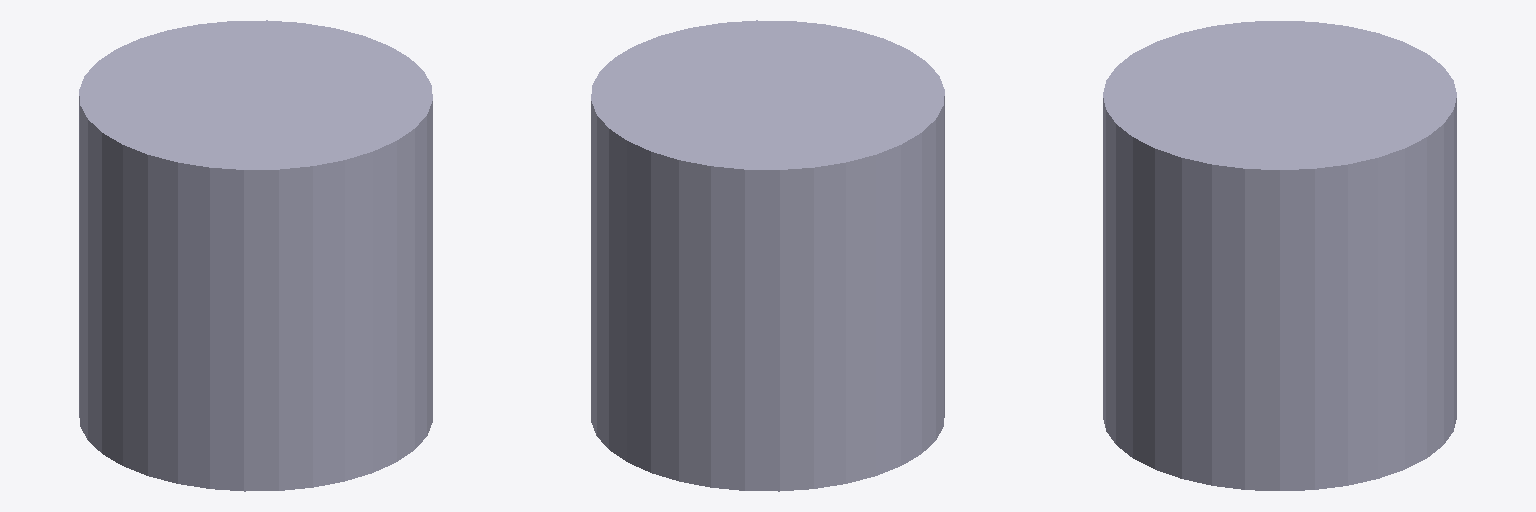
URDF robot description (flexpicker):
<?xml version="1.0" ?>
<robot name="flexpicker" xmlns:xacro="http://www.ros.org/wiki/xacro">
 <material name="gripperMaterial">
        <!-- Dark red like saywer robot -->
        <color rgba="0.6 0.18 0.18 1.0"/>
    </material>
    <material name="schunkGripperMaterial">
        <color rgba="0.55 0 0.0 1.0"/>
    </material>
    <material name="schunkGripperFingerMaterial">
        <!-- Dark red like saywer robot -->
        <color rgba="0.83 0.68 0.21 1.0" />
    </material>
    <material name="schunkGripperMountMaterial">
        <!-- Dark red like saywer robot -->
        <color rgba="0.74 0.74 0.82 1.0"/>
    </material>
    <material name="fingerFoamMaterial">
        <!-- Dark grey -->
        <color rgba="0.2 0.2 0.2 1.0"/>
    </material>

 <link name="flexpicker_link_0">
        <inertial>
            <origin rpy="0 3.141592653589 0" xyz="-0.1 0 0.07"/>
            <!--Increase mass from 5 Kg original to provide a stable base to carry the
                arm.-->
            <inertia ixx="0.05" ixy="0" ixz="0" iyy="0.06" iyz="0" izz="0.03"/>
            <mass value="0"/>
        </inertial>
 </link>
 <joint name='x_axis' type='prismatic'>
  <parent link="flexpicker_link_0"/>
  <child link="x_link"/>
  <axis xyz="1 0 0"/>
  <limit lower="-10" upper="10" effort="1000" velocity="10" />
  <dynamics damping="0.0" friction="0.0"/>
 </joint>
 <link name='x_link'>
      <inertial>
        <mass value="3"/>
        <inertia ixx="1"  ixy="0"  ixz="0" iyy="1" iyz="0" izz="1" />
      </inertial>
 </link>
 <joint name='y_axis' type='prismatic'>
  <parent link="x_link"/>
  <child link="y_link"/>
  <axis xyz="0 1 0"/>
  <limit lower="-10" upper="10" effort="1000" velocity="10" />
  <dynamics damping="0.0" friction="0.0"/>
 </joint>
  <link name='y_link'>
      <inertial>
        <mass value="3"/>
        <inertia ixx="1"  ixy="0"  ixz="0" iyy="1" iyz="0" izz="1" />
      </inertial>
 </link>
  <joint name='z_axis' type='prismatic'>
  <parent link="y_link"/>
  <child link="z_link"/>
  <axis xyz="0 0 1"/>
  <limit lower="-10" upper="10" effort="1000" velocity="10" />
  <dynamics damping="0.0" friction="0.0"/>
 </joint>
  <link name='z_link'>
      <inertial>
        <mass value="3"/>
        <inertia ixx="1"  ixy="0"  ixz="0" iyy="1" iyz="0" izz="1" />
      </inertial>
 </link>
 <joint name='base_cyl_joint' type="revolute">
  <parent link="z_link"/>
  <child link="base_cyl_link"/>
  <axis xyz="0 0 1"/>
  <limit lower="-100" upper="100" effort="300" velocity="1200" />
  <dynamics damping="0.0" friction="0.0"/>
  <origin xyz="0 0 0.07"/>
 </joint>
 <link name="base_cyl_link">
        <inertial>
            <origin xyz="0 0 0" rpy="0 0 0"/>
            <inertia ixx="3.578111313725209e-08" ixy="1.9645539431978182e-25" ixz="-3.148195961317329e-26" iyy="3.578111326283281e-08" iyz="2.2037820490974163e-24" izz="3.0665489403698024e-08"/>
            <mass value="0.02"/>
        </inertial>
        <visual name='cyl_visual'>
            <origin xyz="0 0 0" rpy="0 0 0" />
            <geometry>
                <cylinder radius="0.025" length="0.05"/>
            </geometry>
            <material name="schunkGripperMountMaterial"/>
        </visual>
        <collision>
            <origin xyz="0 0 0" rpy="0 0 0" />
            <geometry>
                <cylinder radius="0.025" length="0.05"/>
            </geometry>
        </collision>
 </link>
 <joint name='cylinder_to_gripper' type='fixed'>
        <parent link="base_cyl_link"/>
        <child link="gripper_base"/>
        <origin xyz="0 0 0.025"/>
 </joint>
 <joint name='coupler_to_realsense_rgb' type='fixed'>
 		<parent link="gripper_base"/>
        <child link="realsense_rgb"/>
<!--        <origin xyz="-0.110572 0.0325 -0.036494" rpy="0 0 0"/>-->
        <origin xyz="-0.109951 0.027587 0.0519427" rpy="0 0 0" />
 </joint>
 <link name="realsense_rgb">
         <inertial>
            <origin rpy="0 0 0" xyz="0 0 0"/>
            <inertia ixx="0.0000000001" ixy="0" ixz="0" iyy="0.0000000001" iyz="0" izz="0.0000000001"/>
            <mass value="0.0001"/>
        </inertial>
<!--        <visual name='realsense_link_visual'>-->
<!--            <origin xyz="0 0 0" rpy="0 0 0" />-->
<!--            <geometry>-->
<!--                <box size="0.002 0.002 0.002" />-->
<!--            </geometry>-->
<!--            <material name="rs">-->
<!--                <color rgba="1 0.0 0.0 1"/>-->
<!--            </material>-->
<!--        </visual>-->
 </link>
 <!-- Base of end effector -->
 <link name="gripper_base">
        <inertial>
            <origin xyz="0.0000126 0.0000128 0.0598407" rpy="0 0 0"/>
            <inertia ixx="0.00000102192" ixy="0.00000000008" ixz="0.00000000015" iyy="0.00000086436" iyz="0.00000000019" izz="0.00000070256"/>
            <mass value="0.800"/>
        </inertial>
        <visual>
            <origin rpy="0 0 1.57079632679" xyz="0 0 0"/>
            <geometry>
                <mesh filename="package://meshes/meshes_EGH_gripper/gripper_body_EGH.obj"/>
            </geometry>
            <material name="schunkGripperMaterial"/>
        </visual>
        <collision>
            <origin rpy="0 0 1.57079632679" xyz="0 0 0"/>
            <geometry>
                <mesh filename="package://meshes/meshes_EGH_gripper/gripper_body_EGH_vhacd.obj"/>
            </geometry>
            <material name="schunkGripperMaterial"/>
        </collision>
 </link>

    <!-- Joint to define the Tool Control Point relatively to the gripper base -->
    <joint name="tool_control_point" type="fixed">
        <origin rpy="0 3.141592653589793 0" xyz="0 0 0.197478"/>
        <parent link="gripper_base"/>
        <child link="gripper"/>
    </joint>
    <!-- Gripper Tool control point -->
    <link name="gripper">
        <inertial>
            <origin rpy="0 0 0" xyz="0 0 0"/>
            <inertia ixx="0.0000000001" ixy="0" ixz="0" iyy="0.0000000001" iyz="0" izz="0.0000000001"/>
            <mass value="0.0001"/>
        </inertial>
    </link>
<!-- Gripper finger joints -->
    <joint name="l_gripper_l_finger_joint" type="prismatic">
        <origin rpy="0 0 0" xyz="0 0 0.1082"/>
        <axis xyz="0 1 0"/>
        <parent link="gripper_base"/>
        <child link="l_gripper_l_finger"/>
        <limit effort="25.0" lower="-0.04" upper="0.04" velocity="2.0"/>
       <dynamics damping="0.7" friction="0.0"/>
    </joint>
    <joint name="l_gripper_r_finger_joint" type="prismatic">
        <origin rpy="0 0 0" xyz="0 0 0.1082"/>
        <axis xyz="0 1 0"/>
        <parent link="gripper_base"/>
        <child link="l_gripper_r_finger"/>
        <limit effort="25.0" lower="-0.04" upper="0.04" velocity="2.0"/>
        <mimic joint="l_gripper_l_finger_joint" multiplier="-1.0"/>
       <dynamics damping="0.7" friction="0.0"/>
    </joint>

    <!-- Left gripper finger -->
    <link name="l_gripper_l_finger">
        <inertial>
            <origin xyz="-0.0001337 0.0112778 0.0399032" rpy="0 0 0"/>
            <inertia ixx="0.00000002451" ixy="-0.00000000009" ixz="-0.00000000018" iyy="0.00000002462" iyz="-0.00000000037" izz="0.00000000612"/>
            <mass value="0.100"/>
        </inertial>
        <visual>
            <origin rpy="0 0 1.57079632679" xyz="0.00025 -0.03 0"/>
            <geometry>
                <mesh filename="package://meshes/meshes_EGH_gripper/finger_EGH.obj"/>
            </geometry>
            <material name="package://meshes/schunkGripperFingerMaterial"/>
        </visual>
        <collision>
            <origin rpy="0 0 1.57079632679" xyz="0.00025 -0.03 0"/>
            <geometry>
                <mesh filename="package://meshes/meshes_EGH_gripper/finger_EGH_shrinked_vhacd.obj"/>
            </geometry>
        </collision>
        <contact>
            <lateral_friction value="0.9"/>
            <spinning_friction value="0.01"/>
        </contact>
    </link>

    <!-- Right gripper finger -->
    <link name="l_gripper_r_finger">
        <inertial>
            <origin xyz="0.0001337 -0.0112778 0.0399032" rpy="0 0 0"/>
            <inertia ixx="0.00000002451" ixy="-0.00000000009" ixz="0.00000000018" iyy="0.00000002462" iyz="0.00000000037" izz="0.00000000612"/>
            <mass value="0.100"/>
        </inertial>
        <visual>
            <origin rpy="0 0 -1.57079632679" xyz="-0.00025 0.03 0"/>
            <geometry>
                <mesh filename="package://meshes/meshes_EGH_gripper/finger_EGH.obj"/>
            </geometry>
            <material name="package://meshes/schunkGripperFingerMaterial"/>
        </visual>
        <collision>
            <origin rpy="0 0 -1.57079632679" xyz="-0.00025 0.03 0"/>
            <geometry>
                <mesh filename="package://meshes/meshes_EGH_gripper/finger_EGH_shrinked_vhacd.obj"/>
            </geometry>
        </collision>
        <contact>
            <lateral_friction value="0.9"/>
            <spinning_friction value="0.01"/>
        </contact>
    </link>
</robot>

--- What the picture shows (computed from the rendered views, not written in the file) ---
The picture shows the robot from 3 angles, left to right: view 1: azimuth 30°, elevation 25°; view 2: azimuth 150°, elevation 25°; view 3: azimuth 270°, elevation 25°; orthographic projection.
Robot: flexpicker — 10 links, 9 joints (1 revolute, 5 prismatic, 3 fixed); root link flexpicker_link_0; default pose: all joints at 0.
Links seen in each view (by area): view 1: base_cyl_link; view 2: base_cyl_link; view 3: base_cyl_link.
Boxes of the visible links, bbox=[...] form: base_cyl_link: bbox=[79, 20, 432, 491]; base_cyl_link: bbox=[591, 20, 944, 491]; base_cyl_link: bbox=[1103, 21, 1456, 490].
Bounding box of the posed robot: 0.05 × 0.05 × 0.05 m (x, y, z).
0 mesh visuals loaded from 2 distinct referenced files (none loaded); not drawn: 3 (reference not matched to a file when rendering).